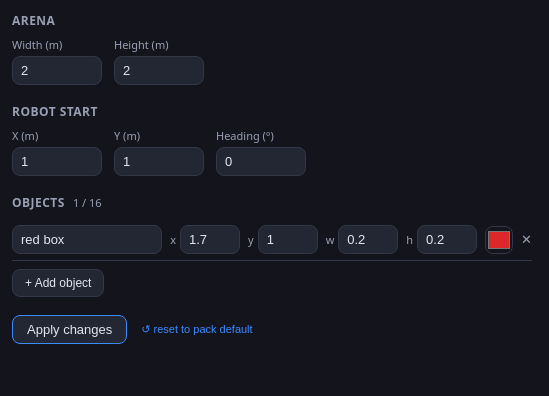
Scenario: WorldPanel › shows a validation error and disables Apply for an out-of-bounds start pose, without discarding the typed value
Replace the text in the number field labelled "X (m)" with "99" at {"x": 57, "y": 162}, box x1=12 y1=147 x2=102 y2=176
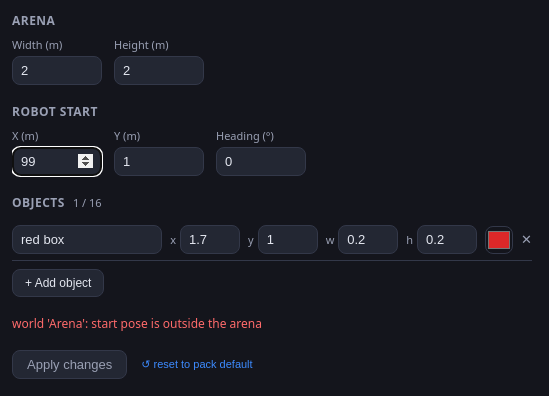
Expected: the button "Apply changes" is disabled, x1=12 y1=350 x2=127 y2=379
Expected: the text "world 'Arena': start pose is outside the arena" is shown, x1=12 y1=315 x2=262 y2=332
